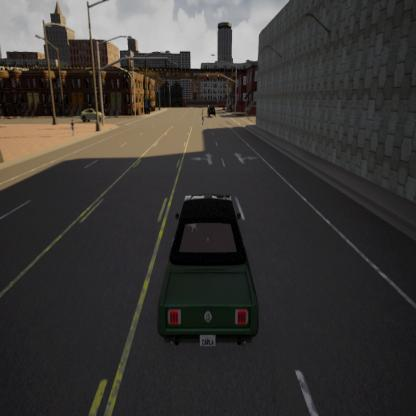Cars: (155, 184, 267, 350), (78, 105, 108, 122), (207, 98, 218, 121)
Pedestrian: (68, 115, 79, 136)
